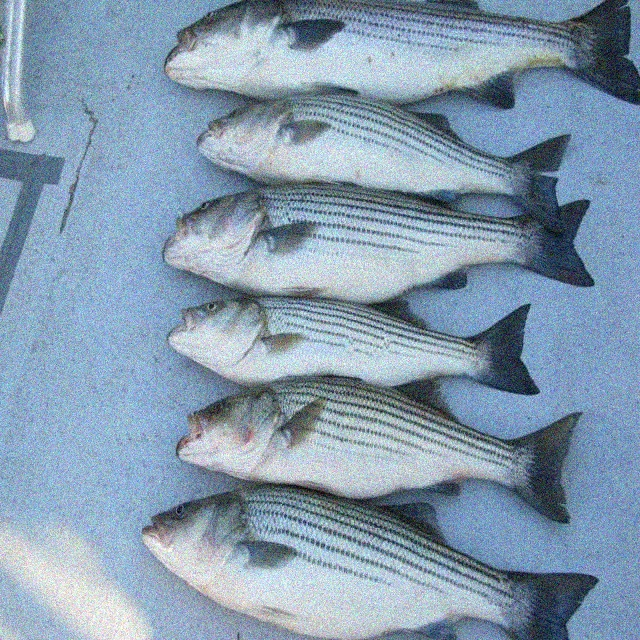Healthy Fish: (134, 481, 599, 640), (167, 370, 584, 504), (133, 0, 640, 105), (148, 188, 610, 302), (158, 90, 578, 205), (147, 287, 558, 396)
